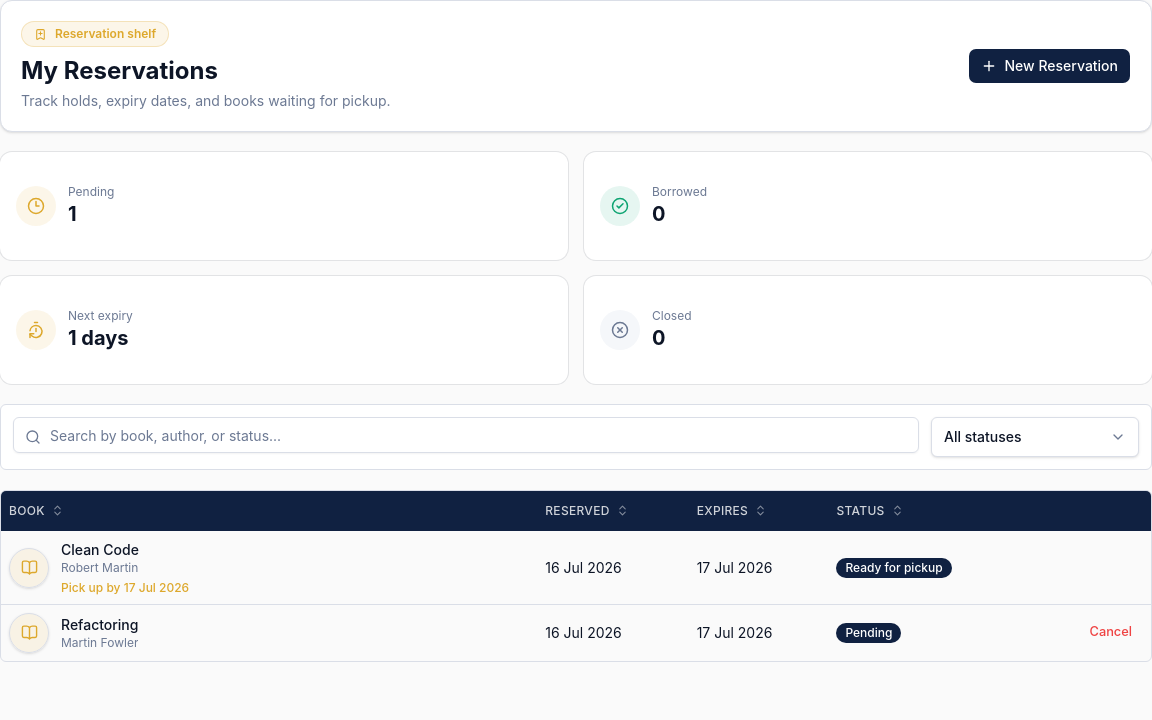
Test: PortalReservationsPage › searches reservations by visible status label
This screenshot has width=1152, height=720.
Expected: the text "Clean Code" is shown, [61, 540, 139, 558]
Type "ready for pickup" into the field with placeholder "Search by book, author, or status...".
click(466, 435); type("ready for pickup")  # box [13, 417, 919, 453]
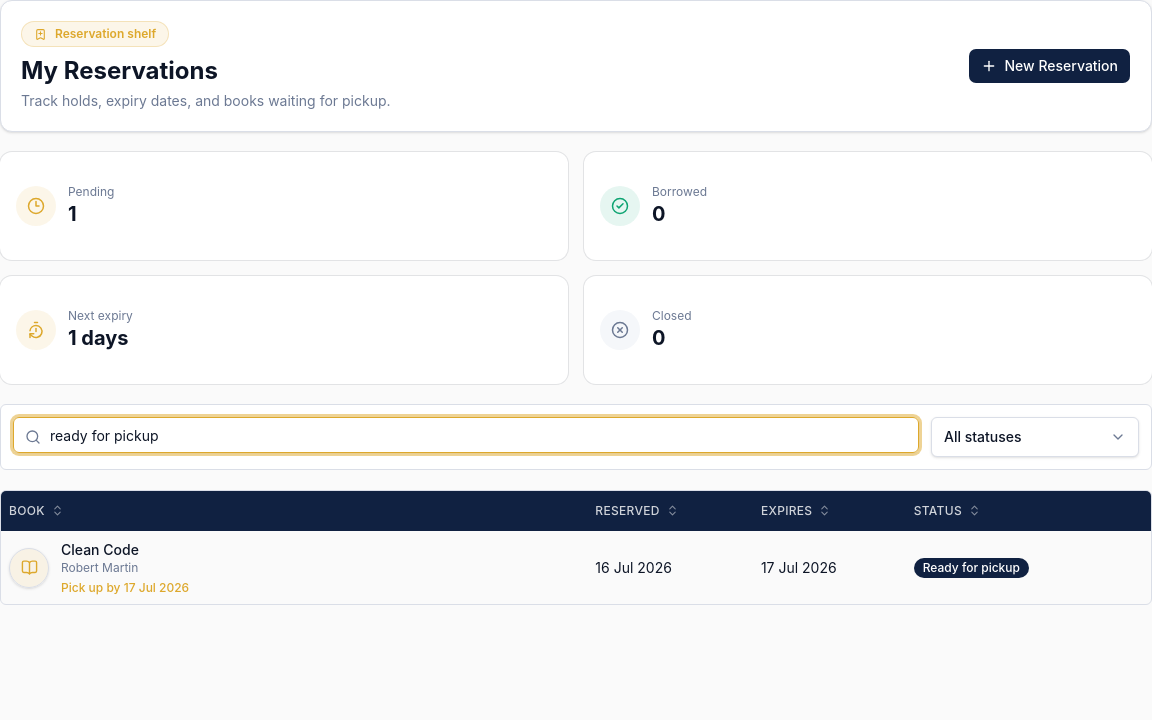
Expected: the text "Clean Code" is shown, [61, 540, 139, 558]
Result: the text "Refactoring" is gone
